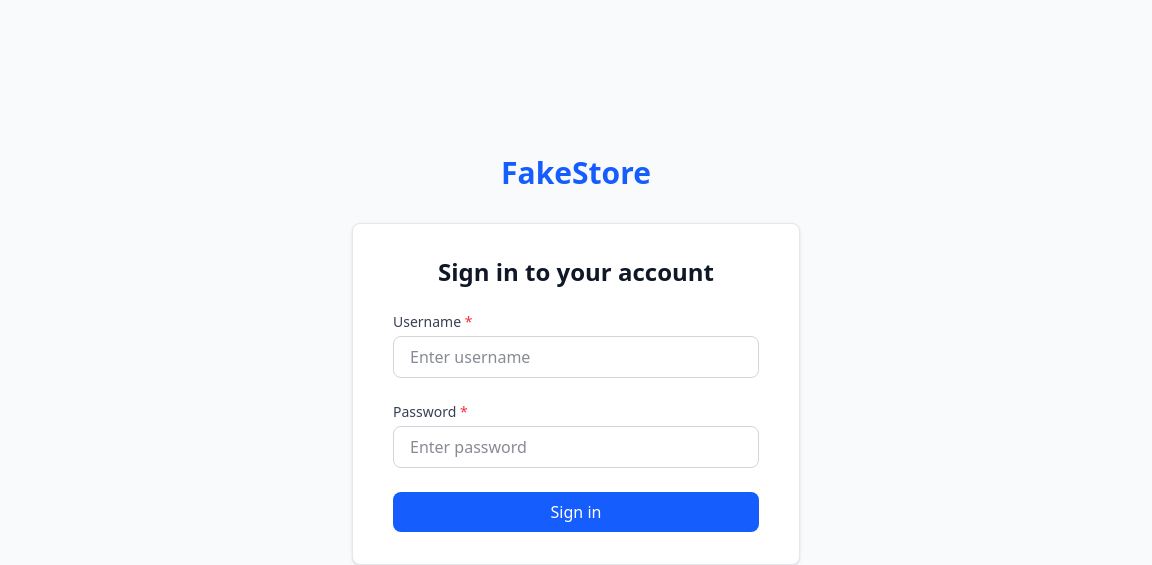
Test: Cart › should display cart items
This screenshot has width=1152, height=565.
Type "johnd" into the field with placeholder "Enter username" at (576, 357), box [393,336,759,378]
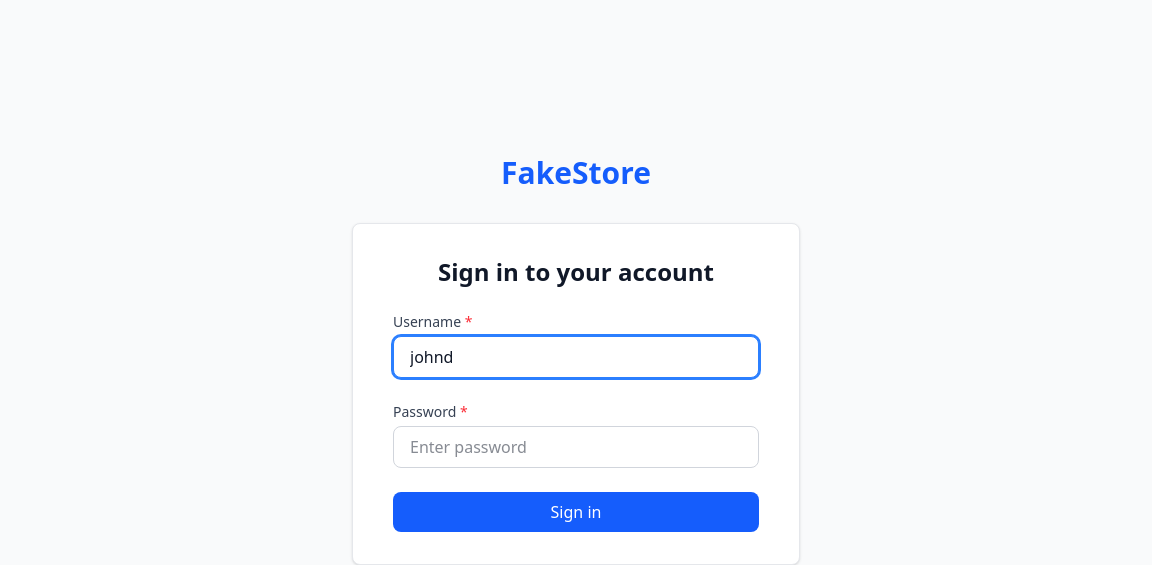
Type "m38rmF$" into the password field with placeholder "Enter password" at (576, 447), box [393,426,759,468]
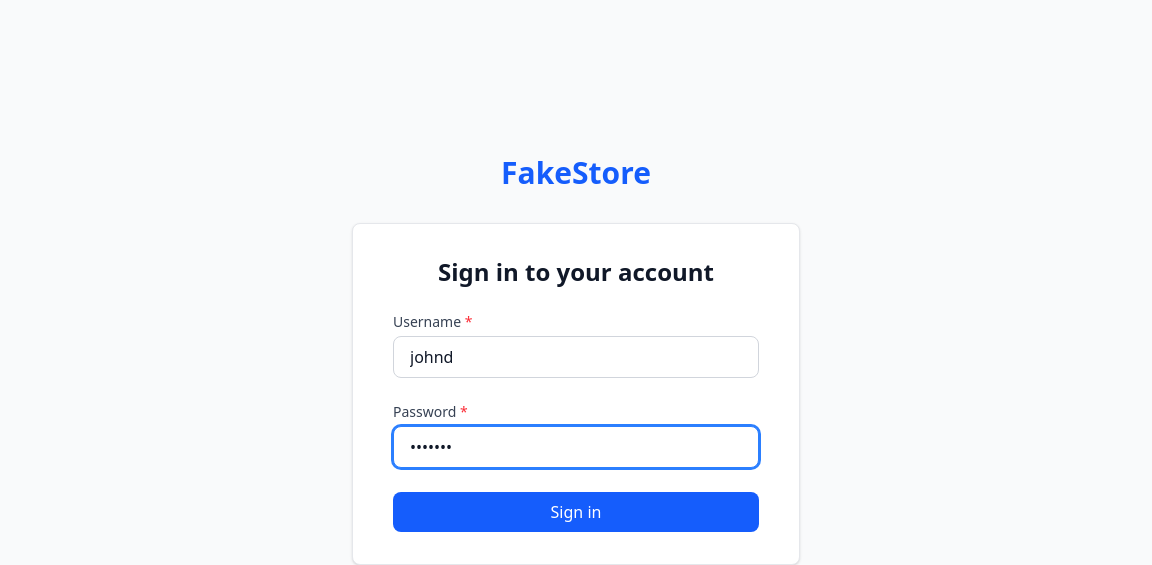
Click the submit button at (576, 512), box [393,492,759,532]
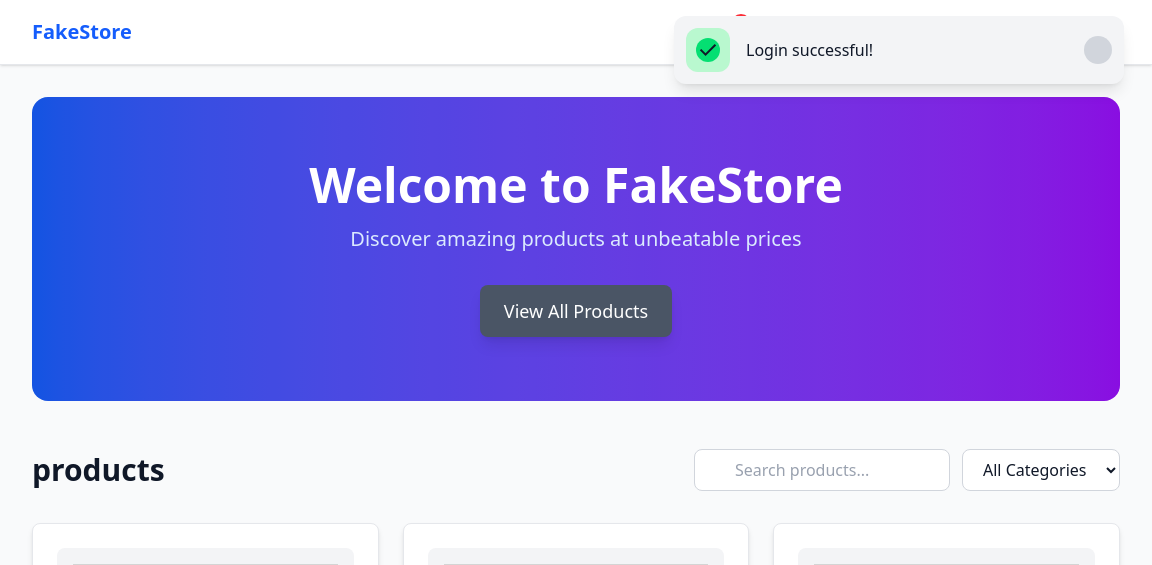
Open "/cart"
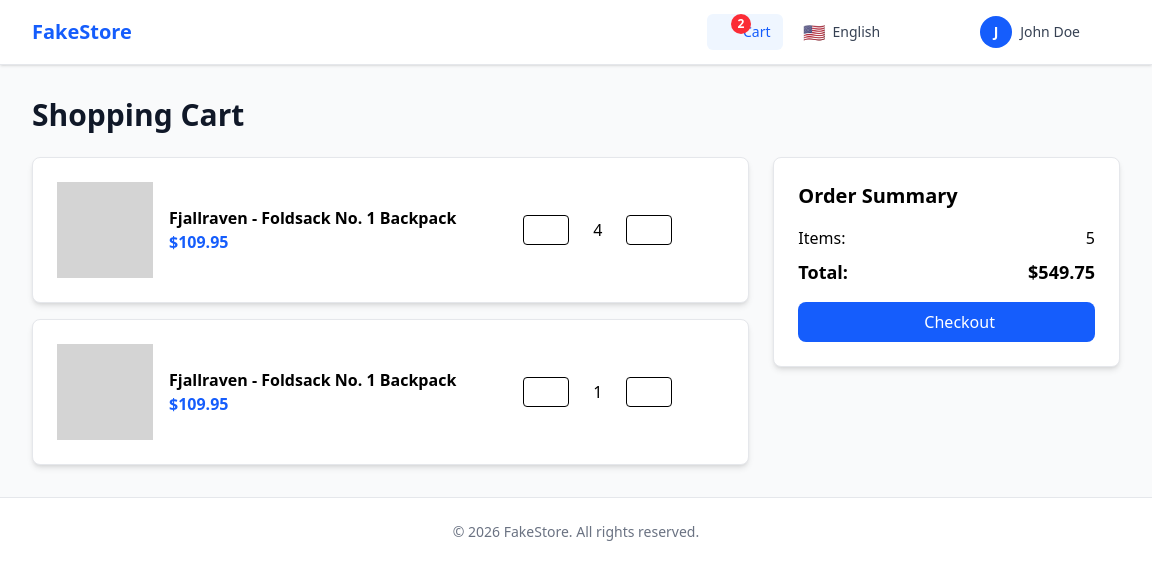
Expected: the element with test id "cart-view" is shown
Expected: the heading with test id "cart-title" reads "Shopping Cart", [32,94,244,135]
Expected: the number of elements with test id "cart-item" is at least 1
